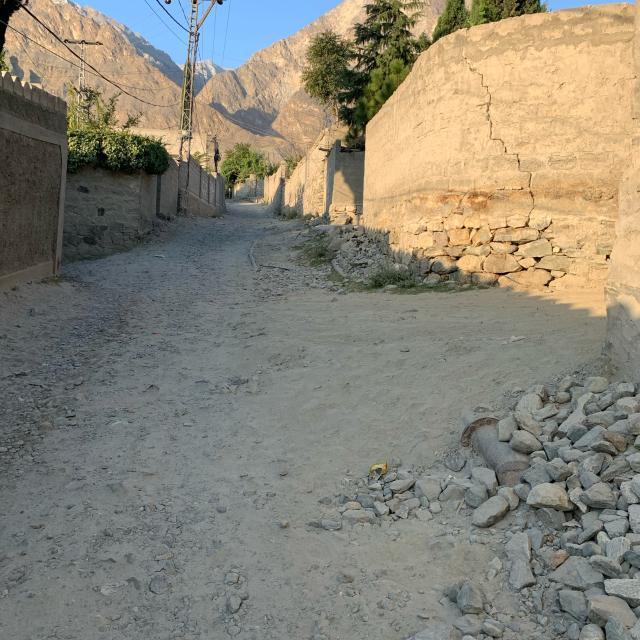Right-Turn: (179, 280, 603, 486)
straight: (110, 196, 260, 462)
